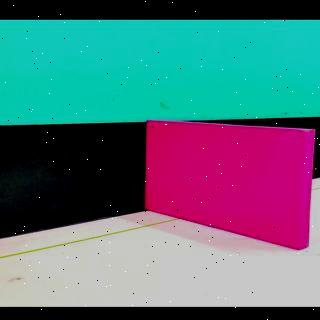xparking: (151, 138, 307, 250)
